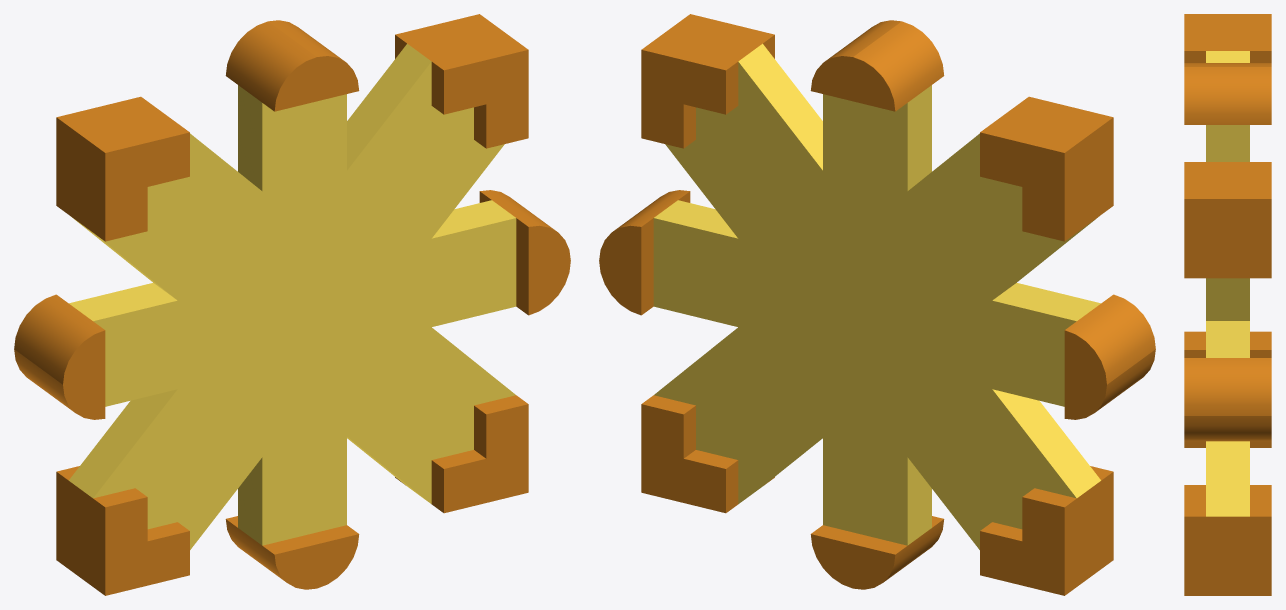
The model's file is star.glb.
The picture shows the model from 3 angles, left to right: view 1: azimuth 30°, elevation 25°; view 2: azimuth 150°, elevation 25°; view 3: azimuth 270°, elevation 25°; orthographic projection. The views are drawn at different scales.
Visible parts, largest first — view 1: shape0 (×76), shape2 (×8), shape1 (×12); view 2: shape0 (×76), shape2 (×8), shape1 (×12); view 3: shape0 (×12), shape2 (×5), shape1 (×5).
Boxes of the visible parts, x1,y1,x2,y2 form: shape0 (×76): (56,14,528,595); shape2 (×8): (14,20,570,589); shape1 (×12): (69,43,515,511); shape0 (×76): (641,14,1113,595); shape2 (×8): (599,20,1155,589); shape1 (×12): (654,43,1100,511); shape0 (×12): (1184,14,1271,595); shape2 (×5): (1184,63,1271,497); shape1 (×5): (1206,51,1249,516).
Bounding box in the file's own units: 12 × 12 × 2.
Materials: 200 (200 with a texture image).
